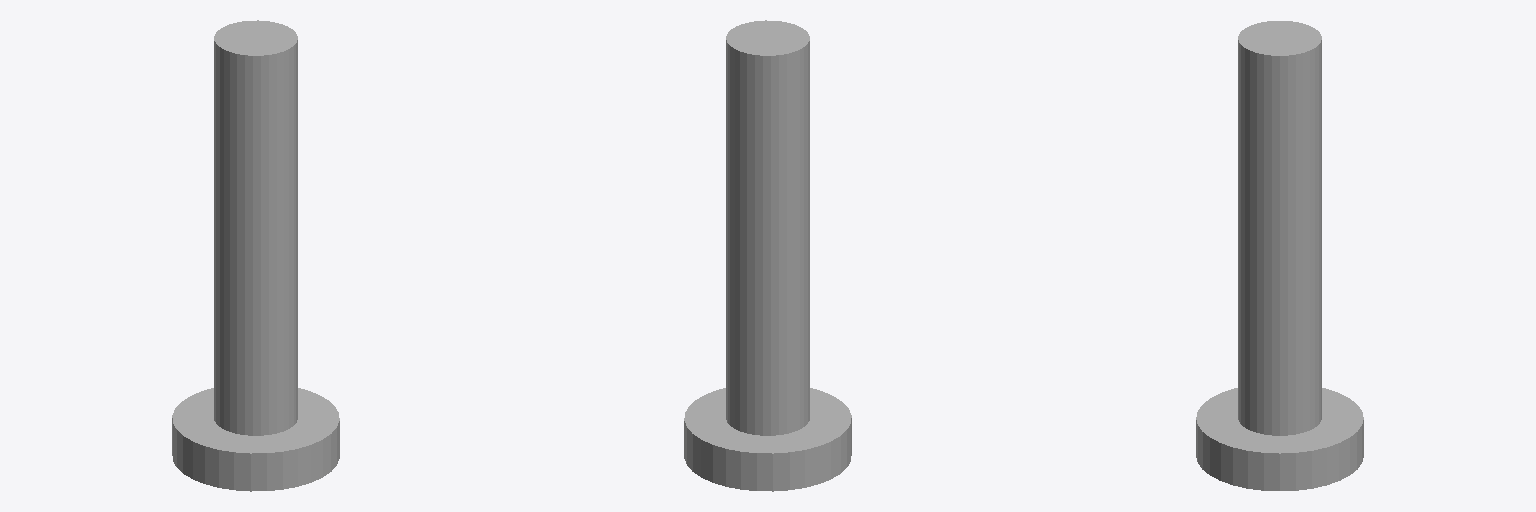
The robot description file, URDF, robot "hello_ros_robot":
<?xml version="1.0"?>
<robot name="hello_ros_robot">
  <link name="world"/>
  <link name="base_link">
    <visual>
      <geometry>
        <cylinder length="0.05" radius="0.1"/>
      </geometry>
      <material name="silver">
        <color rgba="0.75 0.75 0.75 1"/>
      </material>
      <origin rpy="0 0 0" xyz="0 0 0.025"/>
    </visual>
  </link>
  <joint name="fixed" type="fixed">
    <parent link="world"/>
    <child link="base_link"/>
  </joint>
  <link name="torso">
    <visual>
      <geometry>
        <cylinder length="0.5" radius="0.05"/>
      </geometry>
      <material name="silver">
        <color rgba="0.75 0.75 0.75 1"/>
      </material>
      <origin rpy="0 0 0" xyz="0 0 0.25"/>
    </visual>
  </link>
  <joint name="hip" type="continuous">
    <axis xyz="0 0 1"/>
    <parent link="base_link"/>
    <child link="torso"/>
    <origin rpy="0 0 0" xyz="0.0 0.0 0.05"/>
  </joint>
</robot>

--- Render facts (derived) ---
3 views of the same robot in one strip: view 1: azimuth 30°, elevation 25°; view 2: azimuth 150°, elevation 25°; view 3: azimuth 270°, elevation 25° (orthographic).
Model hello_ros_robot with 3 links and 2 joints (1 continuous, 1 fixed), rooted at world, posed all joints at 0.
Links seen in each view (by area): view 1: torso, base_link; view 2: torso, base_link; view 3: torso, base_link.
Boxes of the visible links, left/top/right/bottom form: torso: left=214, top=20, right=297, bottom=435; base_link: left=172, top=388, right=339, bottom=491; torso: left=726, top=20, right=809, bottom=435; base_link: left=684, top=388, right=851, bottom=491; torso: left=1238, top=21, right=1321, bottom=435; base_link: left=1196, top=388, right=1363, bottom=490.
Size in the robot's own frame: 0.2 by 0.2 by 0.55 metres.
Geometry: primitives only (box / cylinder / sphere), no mesh files.